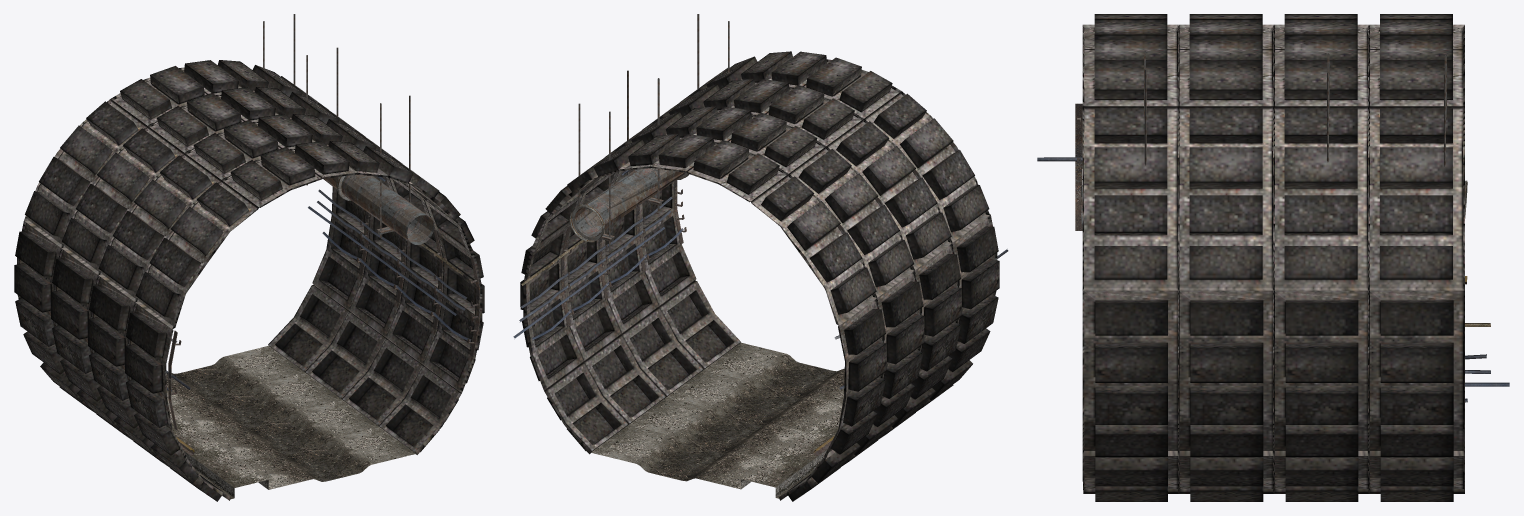
Rendered from tunnel_zelezo_trub.obj.
3 views of the same model, side by side, from view 1: azimuth 30°, elevation 25°; view 2: azimuth 150°, elevation 25°; view 3: azimuth 270°, elevation 25° (orthographic). The views are drawn at different scales.
Visible parts, largest first — view 1: concrete34_opalubka_tunnel_ao, concrete34_opalubka_tunnel_ao001, concrete34_opalubka_tunnel_ao002, concrete34_opalubka_tunnel_ao003, floor_tunnel_pod, floor_tunnel_pod001, floor_tunnel_pod002, floor_tunnel_pod003, metal_truba8, metal_corr_dsc, metal_trub_tonnel, metal_budk (+3 smaller); view 2: concrete34_opalubka_tunnel_ao003, concrete34_opalubka_tunnel_ao002, concrete34_opalubka_tunnel_ao001, concrete34_opalubka_tunnel_ao, floor_tunnel_pod003, floor_tunnel_pod002, floor_tunnel_pod001, floor_tunnel_pod, metal_truba8, metal_trub_tonnel003, metal_budk, metal_balka (+3 smaller); view 3: concrete34_opalubka_tunnel_ao, concrete34_opalubka_tunnel_ao001, concrete34_opalubka_tunnel_ao003, concrete34_opalubka_tunnel_ao002, metal_corr_dsc, metal_budk, metal_trub_tonnel003.
Part boxes in pixels (left/top/right/bottom): concrete34_opalubka_tunnel_ao: left=125, top=141, right=484, bottom=501; concrete34_opalubka_tunnel_ao001: left=88, top=114, right=443, bottom=467; concrete34_opalubka_tunnel_ao002: left=51, top=87, right=406, bottom=440; concrete34_opalubka_tunnel_ao003: left=14, top=60, right=369, bottom=413; floor_tunnel_pod: left=197, top=427, right=415, bottom=499; floor_tunnel_pod001: left=173, top=400, right=378, bottom=471; floor_tunnel_pod002: left=168, top=373, right=342, bottom=433; floor_tunnel_pod003: left=166, top=346, right=305, bottom=405; metal_truba8: left=323, top=174, right=434, bottom=244; metal_corr_dsc: left=168, top=255, right=479, bottom=430; metal_trub_tonnel: left=166, top=176, right=471, bottom=455; metal_budk: left=306, top=47, right=410, bottom=237; concrete34_opalubka_tunnel_ao003: left=520, top=134, right=886, bottom=501; concrete34_opalubka_tunnel_ao002: left=564, top=106, right=924, bottom=467; concrete34_opalubka_tunnel_ao001: left=602, top=79, right=961, bottom=439; concrete34_opalubka_tunnel_ao: left=639, top=51, right=999, bottom=411; floor_tunnel_pod003: left=591, top=425, right=813, bottom=498; floor_tunnel_pod002: left=628, top=397, right=837, bottom=470; floor_tunnel_pod001: left=666, top=370, right=842, bottom=431; floor_tunnel_pod: left=704, top=342, right=844, bottom=403; metal_truba8: left=574, top=168, right=685, bottom=237; metal_trub_tonnel003: left=513, top=170, right=844, bottom=455; metal_budk: left=627, top=14, right=729, bottom=210; metal_balka: left=578, top=103, right=663, bottom=252; concrete34_opalubka_tunnel_ao: left=1082, top=14, right=1179, bottom=501; concrete34_opalubka_tunnel_ao001: left=1177, top=14, right=1274, bottom=501; concrete34_opalubka_tunnel_ao003: left=1368, top=14, right=1464, bottom=501; concrete34_opalubka_tunnel_ao002: left=1273, top=14, right=1369, bottom=501; metal_corr_dsc: left=1075, top=103, right=1082, bottom=230; metal_budk: left=1144, top=50, right=1329, bottom=165; metal_trub_tonnel003: left=1465, top=276, right=1509, bottom=402.
Size of the model in its own units: 9.44 by 9.29 by 9.04.
